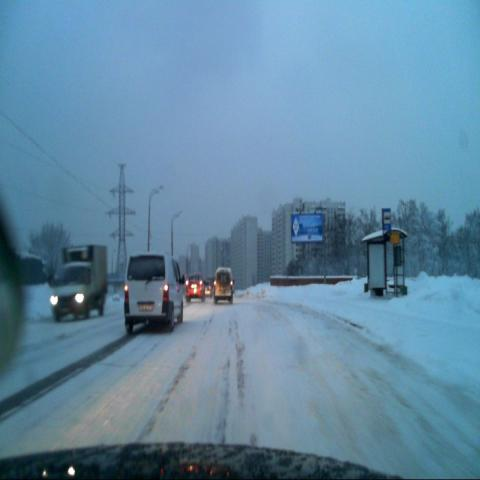5_16: (382, 206, 392, 235)
